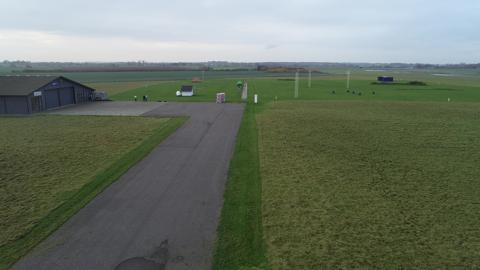RockwoolPallet: (219, 92, 225, 104)
